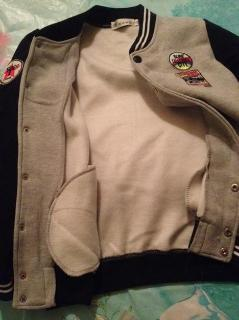long sleeve outwear: (0, 3, 239, 310)
